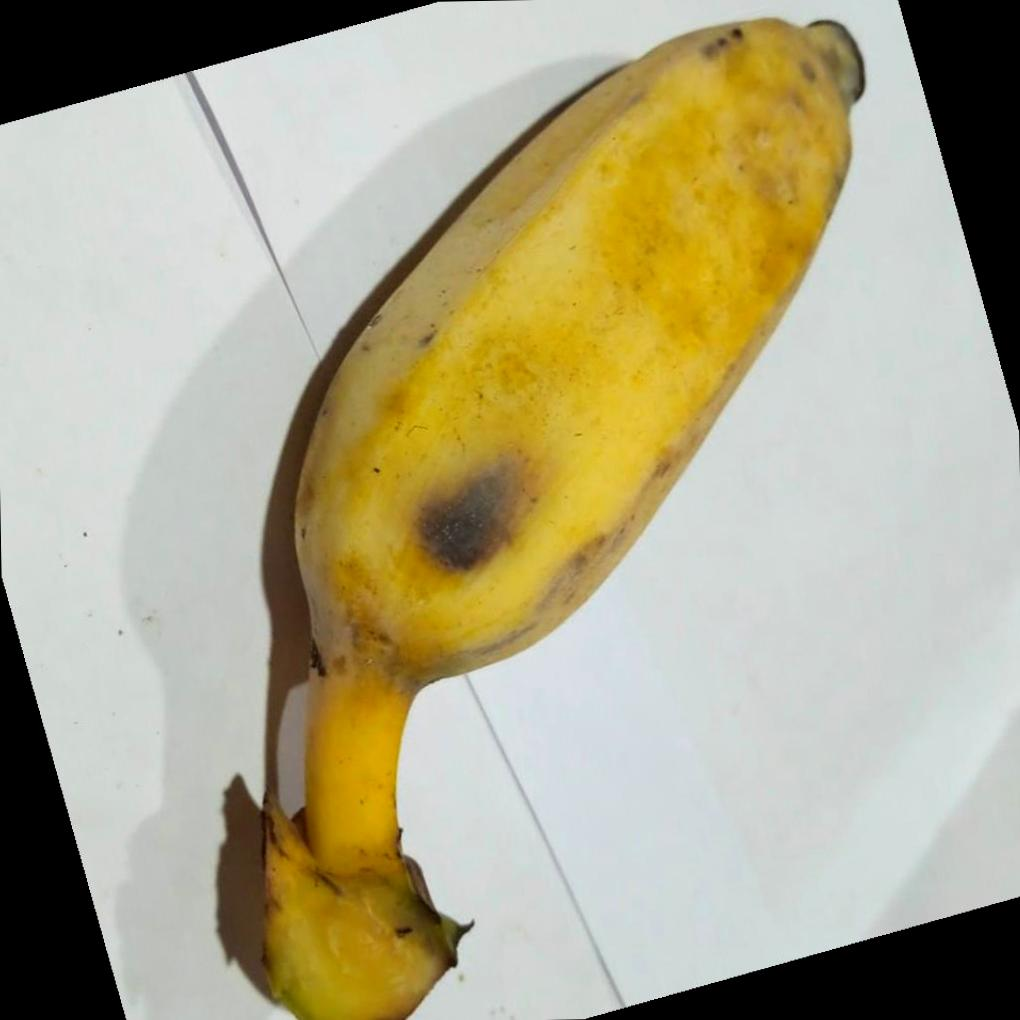Banana Ripe: (198, 13, 902, 1020)
